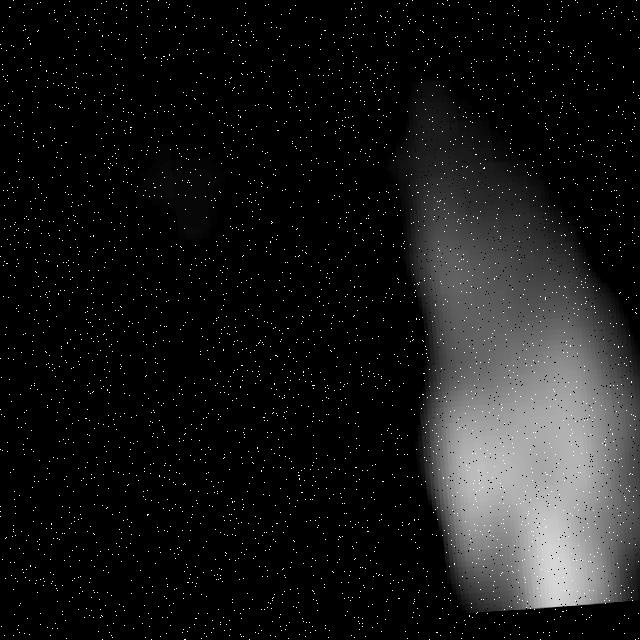person: (379, 125, 640, 623)
